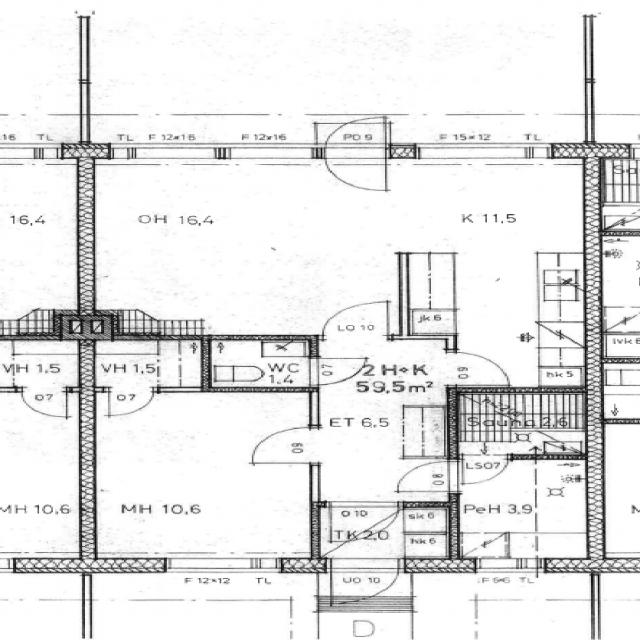door: (330, 559, 398, 611), (330, 502, 398, 545), (325, 111, 385, 159), (325, 144, 385, 192), (323, 300, 387, 340), (248, 428, 320, 463), (447, 352, 516, 386), (393, 462, 458, 492), (312, 359, 367, 385), (108, 387, 152, 417), (462, 455, 506, 485)
